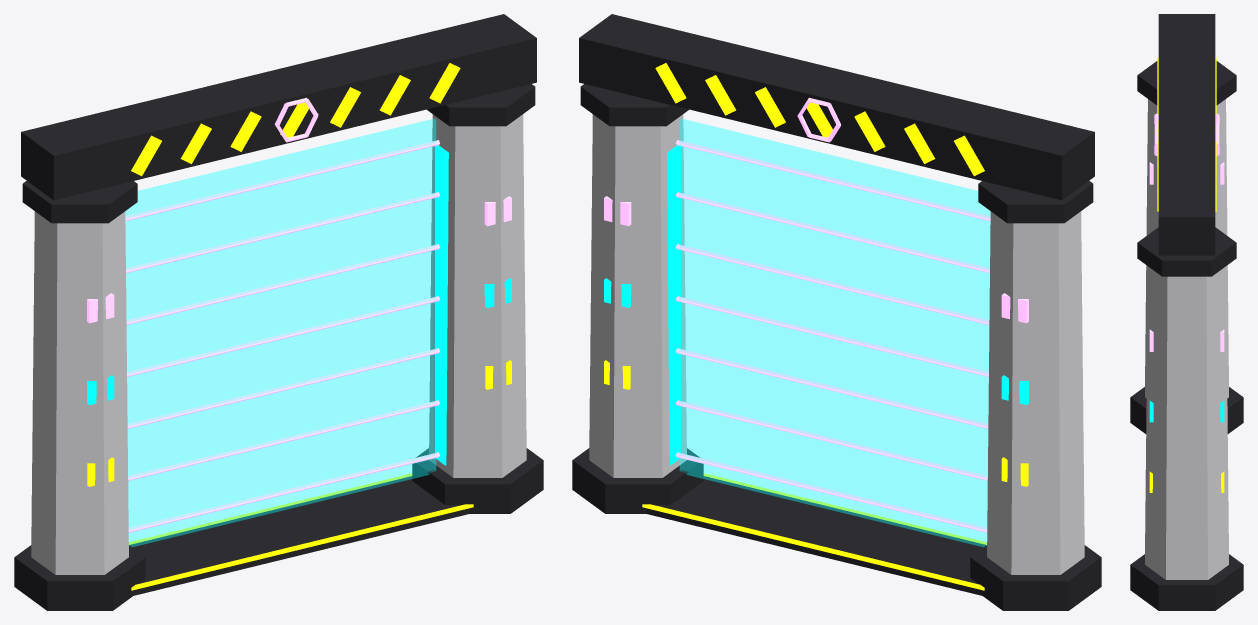
File: FirewallGate.fbx
The picture shows the model from 3 angles, left to right: view 1: azimuth 30°, elevation 25°; view 2: azimuth 150°, elevation 25°; view 3: azimuth 270°, elevation 25°; orthographic projection. The views are drawn at different scales.
Parts seen in each view (by area): view 1: Gate_EnergyField, Gate_Arch, Gate_PostR, Gate_PostL, Gate_Track, Gate_PostBaseR, Gate_PostBaseL, Gate_PostStripL, Gate_PostCapR, Gate_PostCapL, Gate_TrackEdge-1, Gate_Laser6 (+7 smaller); view 2: Gate_EnergyField, Gate_Arch, Gate_PostR, Gate_PostL, Gate_Track, Gate_PostBaseR, Gate_PostBaseL, Gate_PostStripL, Gate_PostCapR, Gate_PostCapL, Gate_TrackEdge1, Gate_Laser6 (+7 smaller); view 3: Gate_PostL, Gate_Arch, Gate_PostBaseL, Gate_PostR, Gate_PostCapL, Gate_PostCapR, Gate_PostBaseR, Gate_Emblem-1, Gate_Emblem1.
Part boxes in pixels (<box>): Gate_EnergyField: <box>125,119,435,546</box>; Gate_Arch: <box>21,14,536,200</box>; Gate_PostR: <box>31,211,128,574</box>; Gate_PostL: <box>429,114,526,477</box>; Gate_Track: <box>129,476,469,595</box>; Gate_PostBaseR: <box>14,545,145,610</box>; Gate_PostBaseL: <box>412,448,543,513</box>; Gate_PostStripL: <box>435,145,448,465</box>; Gate_PostCapR: <box>22,181,137,223</box>; Gate_PostCapL: <box>427,84,535,126</box>; Gate_TrackEdge-1: <box>131,504,473,590</box>; Gate_Laser6: <box>125,140,439,221</box>; Gate_EnergyField: <box>680,119,990,546</box>; Gate_Arch: <box>579,14,1094,200</box>; Gate_PostR: <box>987,211,1084,574</box>; Gate_PostL: <box>589,114,686,477</box>; Gate_Track: <box>646,476,986,595</box>; Gate_PostBaseR: <box>970,545,1101,610</box>; Gate_PostBaseL: <box>572,448,703,513</box>; Gate_PostStripL: <box>667,145,680,465</box>; Gate_PostCapR: <box>978,181,1093,223</box>; Gate_PostCapL: <box>580,84,688,126</box>; Gate_TrackEdge1: <box>642,504,984,590</box>; Gate_Laser6: <box>676,140,990,221</box>; Gate_PostL: <box>1145,266,1228,579</box>; Gate_Arch: <box>1158,14,1215,255</box>; Gate_PostBaseL: <box>1130,554,1243,610</box>; Gate_PostR: <box>1145,99,1228,398</box>; Gate_PostCapL: <box>1137,227,1236,276</box>; Gate_PostCapR: <box>1137,61,1236,105</box>; Gate_PostBaseR: <box>1130,387,1243,433</box>; Gate_Emblem-1: <box>1154,113,1158,155</box>; Gate_Emblem1: <box>1215,113,1219,155</box>.
Size of the model in its own units: 1.4 by 1.22 by 0.32.
